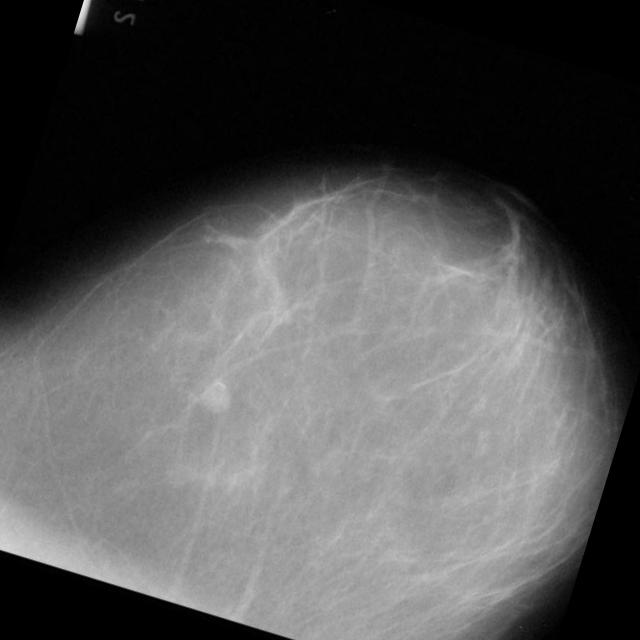CIRC: (196, 376, 237, 416)
